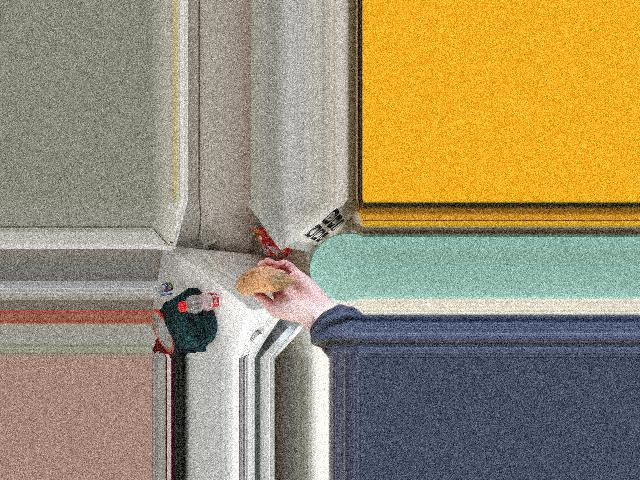sweet_potato: (232, 269, 298, 298)
